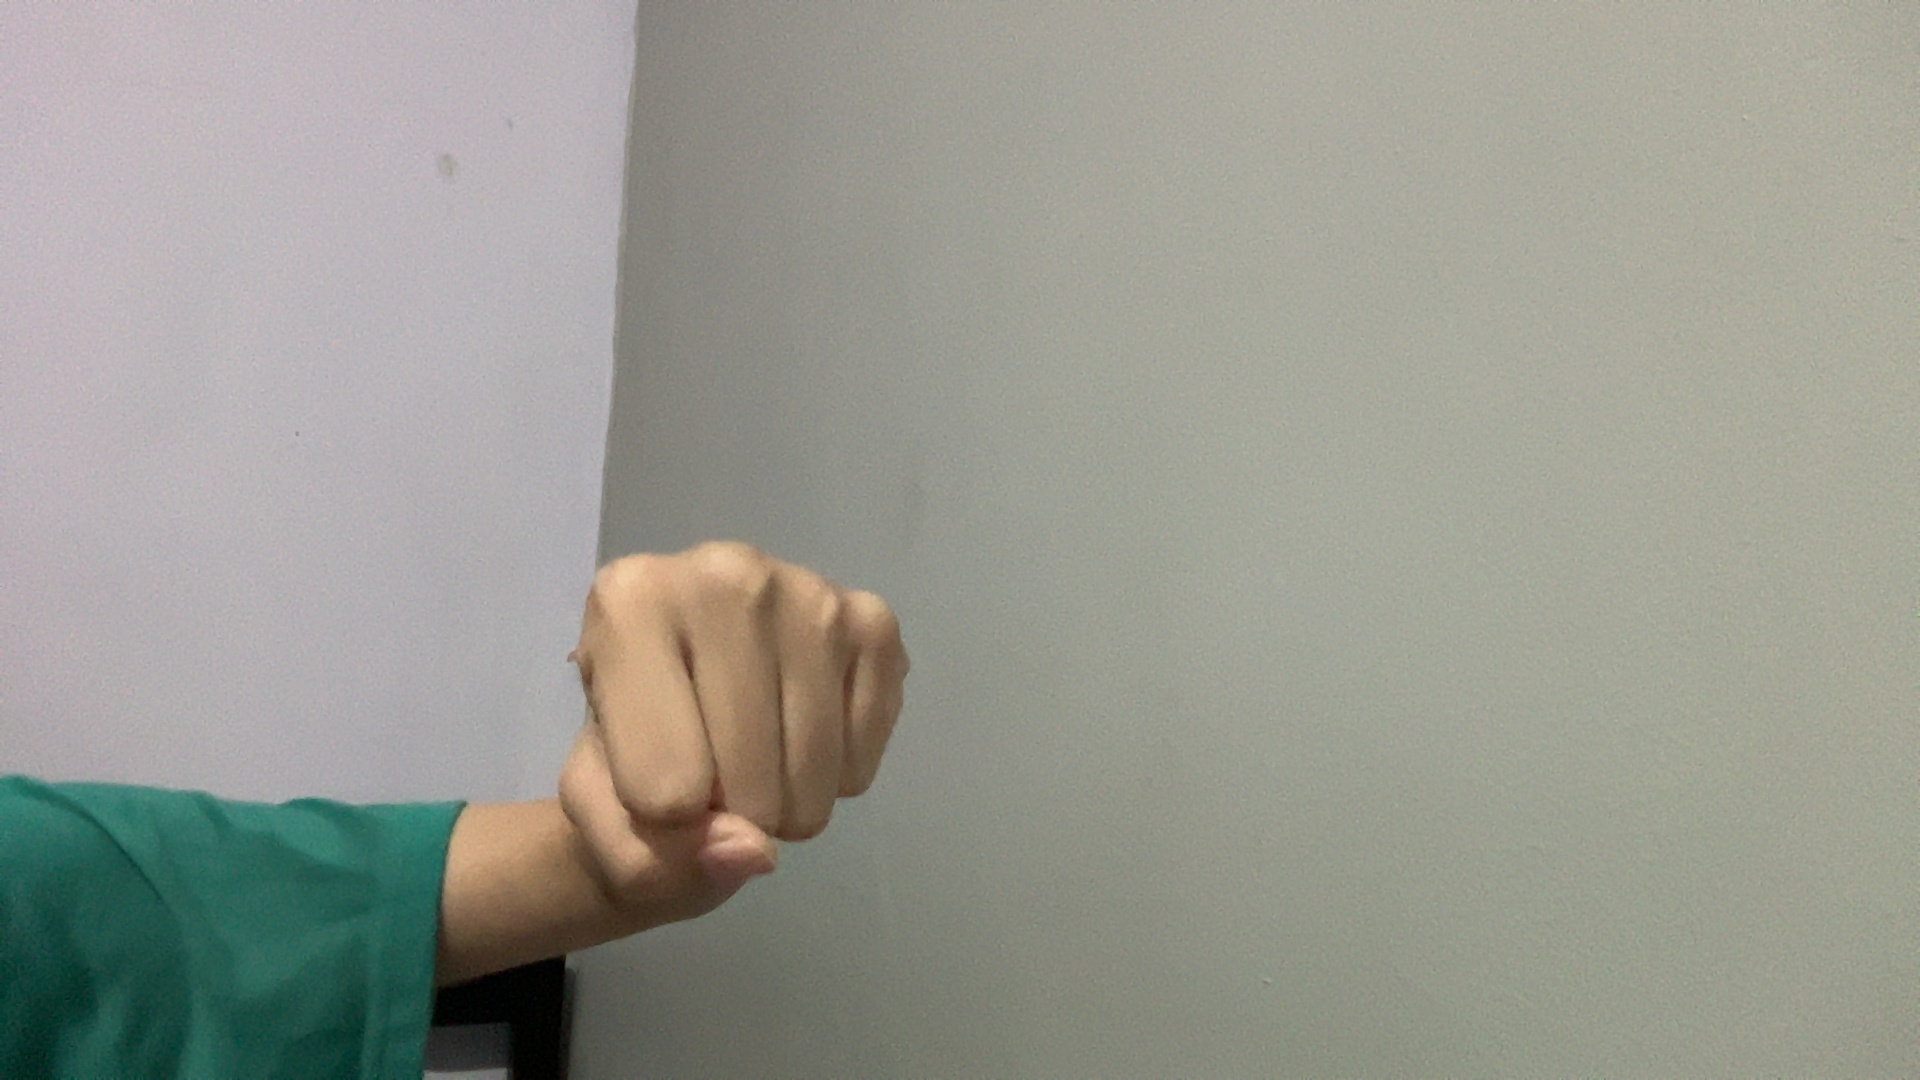Yes: (502, 467, 1017, 990)
